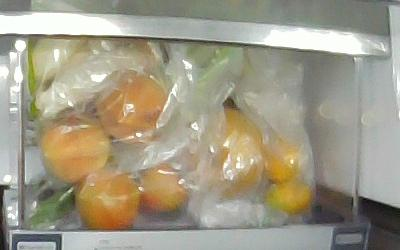peach_vinyl: (95, 74, 171, 143), (39, 117, 110, 185)
pear_vinyl: (183, 109, 264, 196)
tangerine_vinyl: (262, 138, 306, 181), (266, 176, 312, 213)
tomato_vinyl: (73, 172, 139, 228), (135, 164, 187, 213)
